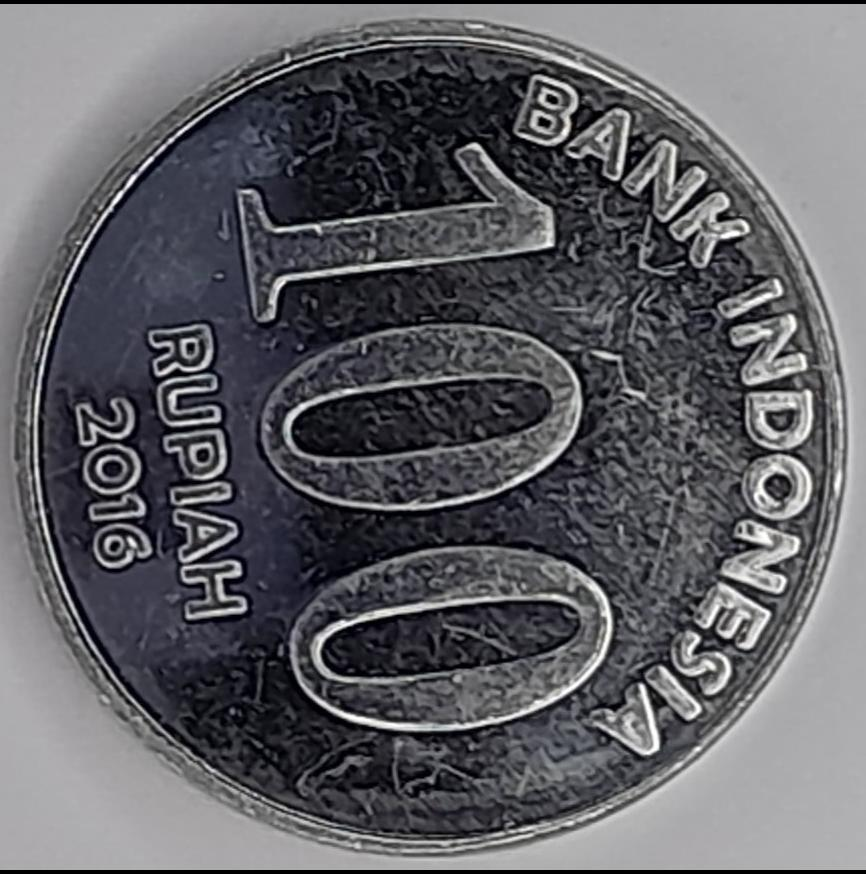coin_100_e2016: (7, 13, 854, 857)
